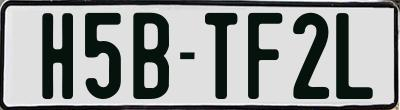2: (290, 10, 326, 102)
5: (83, 11, 122, 99)
B: (131, 13, 169, 100)
F: (245, 13, 282, 99)
H: (39, 11, 76, 97)
L: (335, 10, 374, 97)
T: (202, 13, 238, 99)
